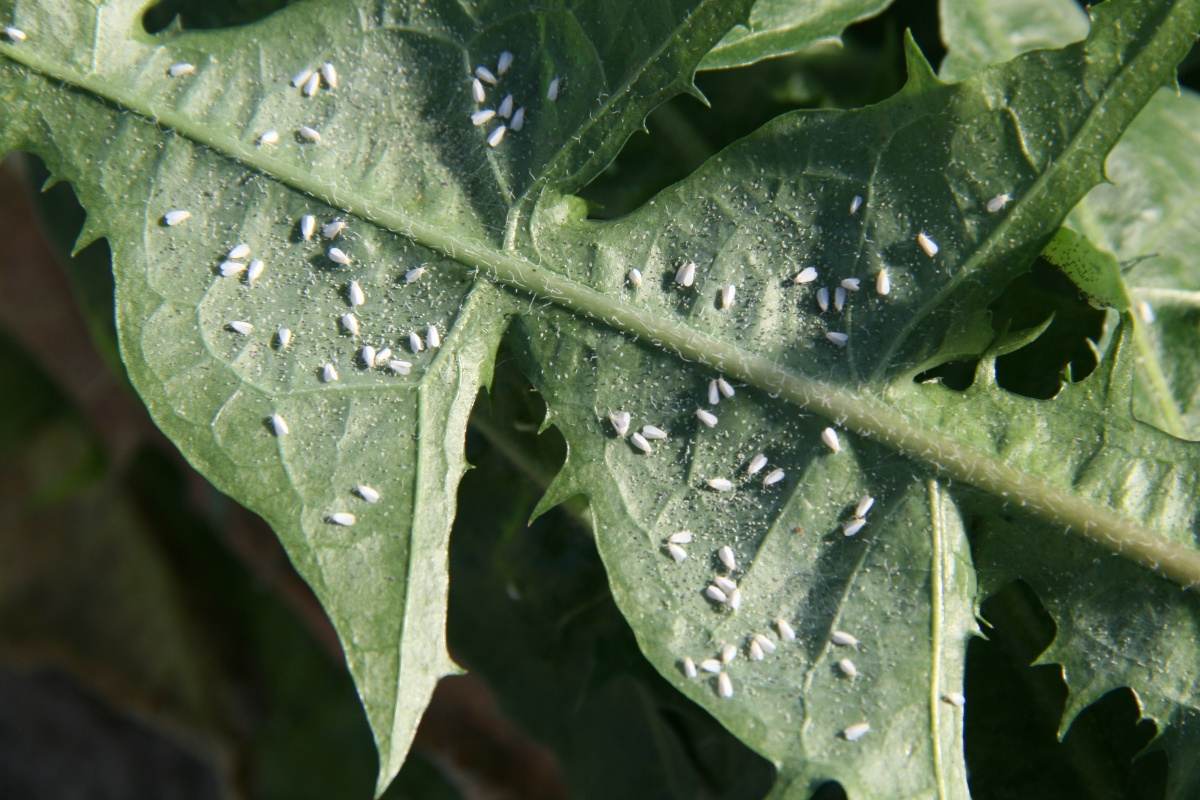Tobacco Whitefly: (646, 519, 700, 571), (337, 481, 392, 525), (262, 393, 296, 464), (153, 190, 204, 235), (813, 417, 849, 471), (913, 230, 961, 265), (229, 309, 262, 351), (809, 321, 853, 352), (616, 265, 653, 296), (782, 265, 821, 293), (297, 115, 322, 152), (633, 430, 655, 456)
